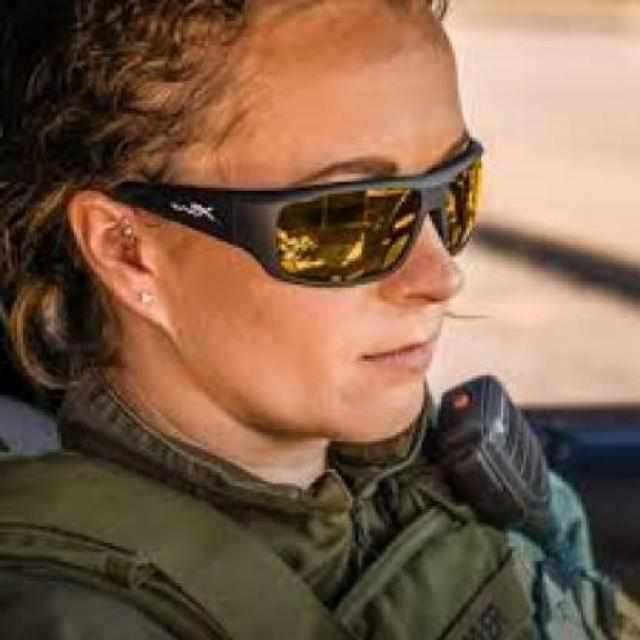Protective Glasses: (258, 147, 498, 267)
